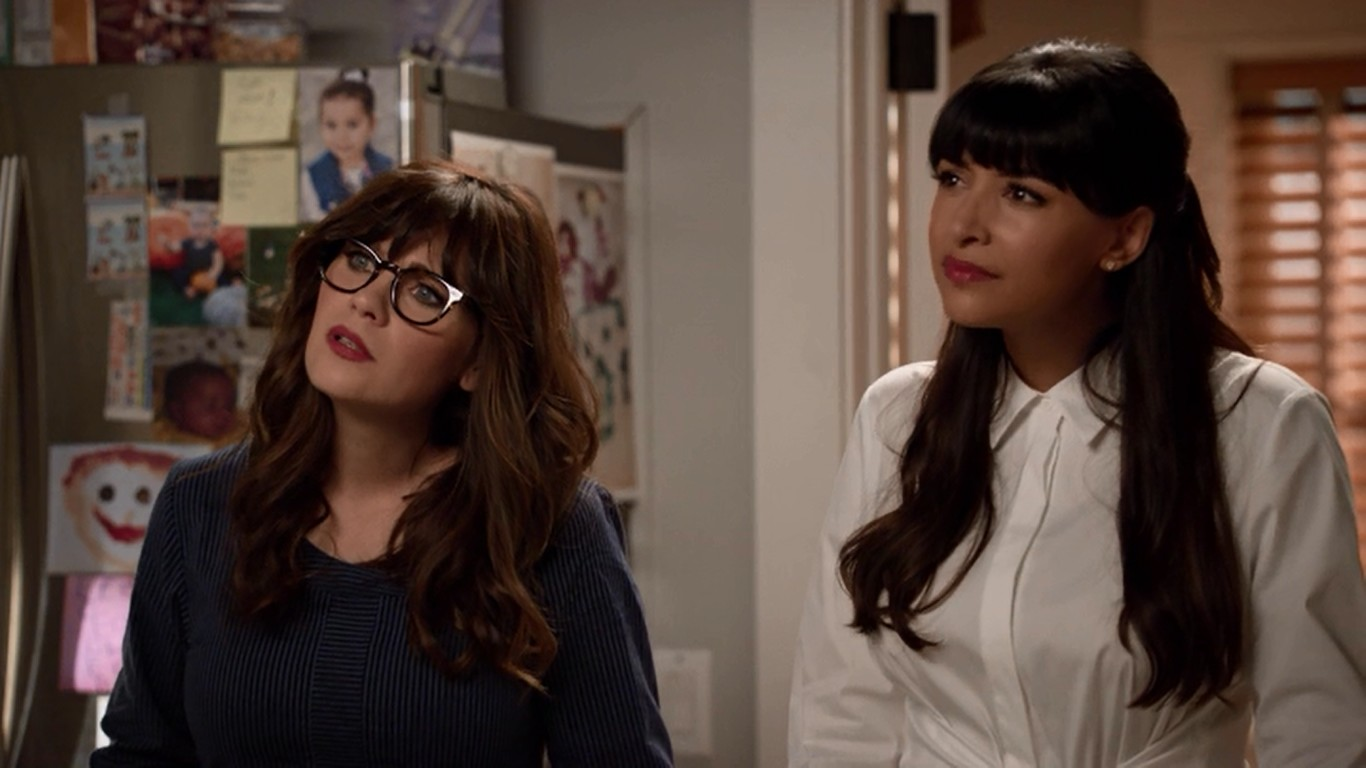person: (756, 38, 1366, 765), (125, 162, 676, 766)
